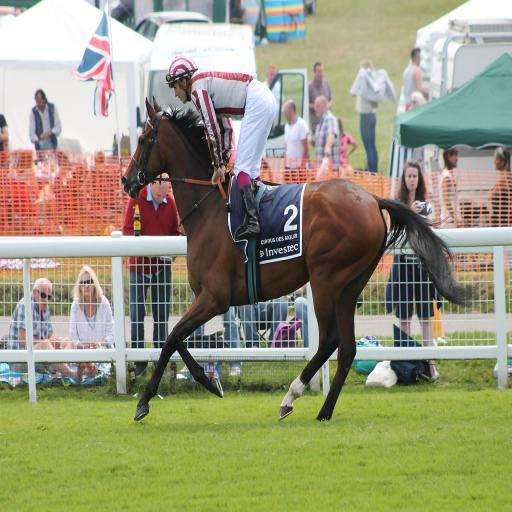Horse: (121, 93, 480, 421)
